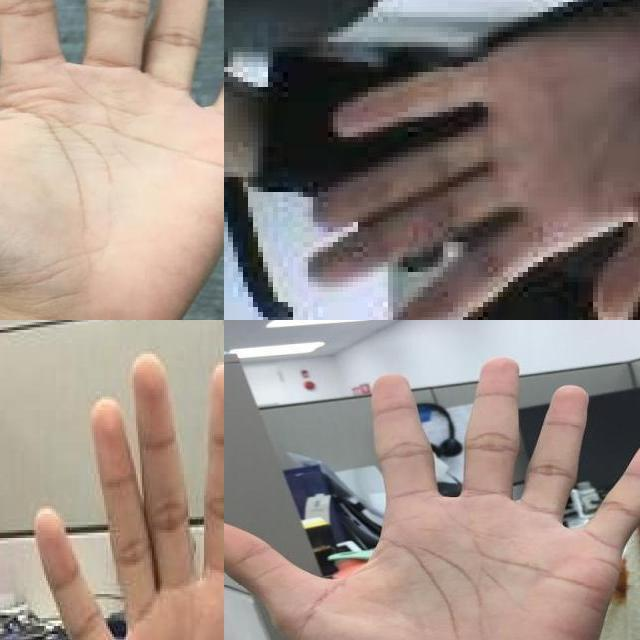no-gloves: (224, 358, 640, 640), (303, 2, 640, 320), (0, 0, 224, 320), (30, 351, 224, 640)
